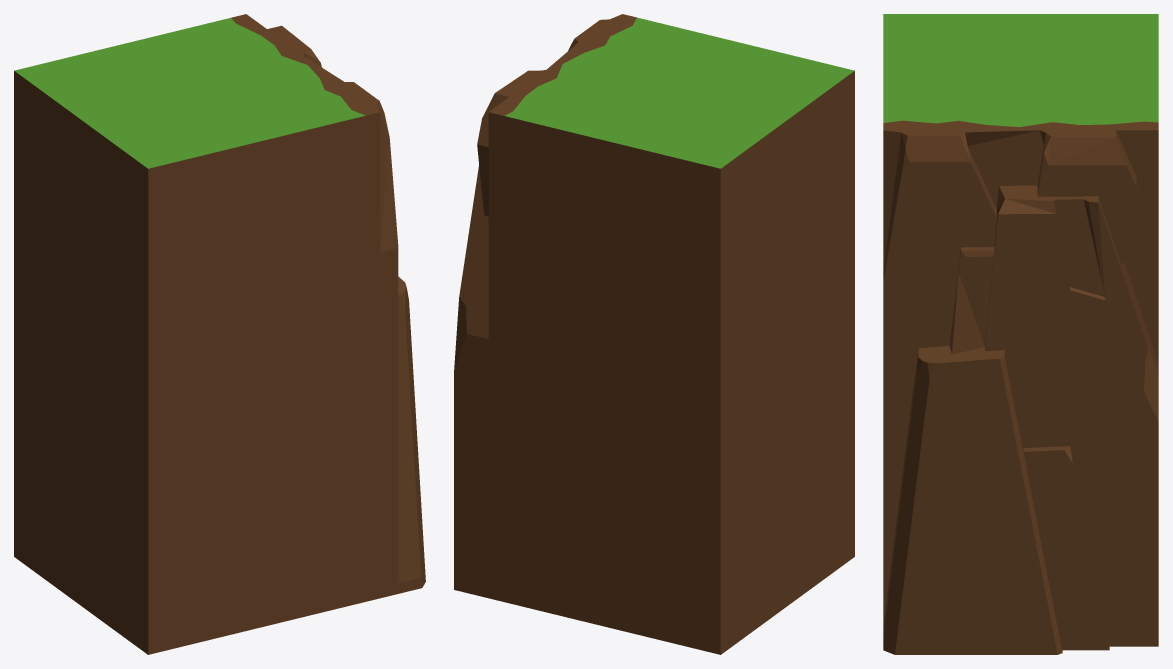
File: Cliff x2 2.fbx
3 views of the same model, side by side, from view 1: azimuth 30°, elevation 25°; view 2: azimuth 150°, elevation 25°; view 3: azimuth 270°, elevation 25° (orthographic). The views are drawn at different scales.
Parts seen in each view (by area): view 1: Cliff x2 1; view 2: Cliff x2 1; view 3: Cliff x2 1.
Boxes of the visible parts, <box> form: Cliff x2 1: <box>14,14,425,654</box>; Cliff x2 1: <box>454,14,854,654</box>; Cliff x2 1: <box>883,14,1158,654</box>.
Size of the model in its own units: 244 by 400 by 200.
